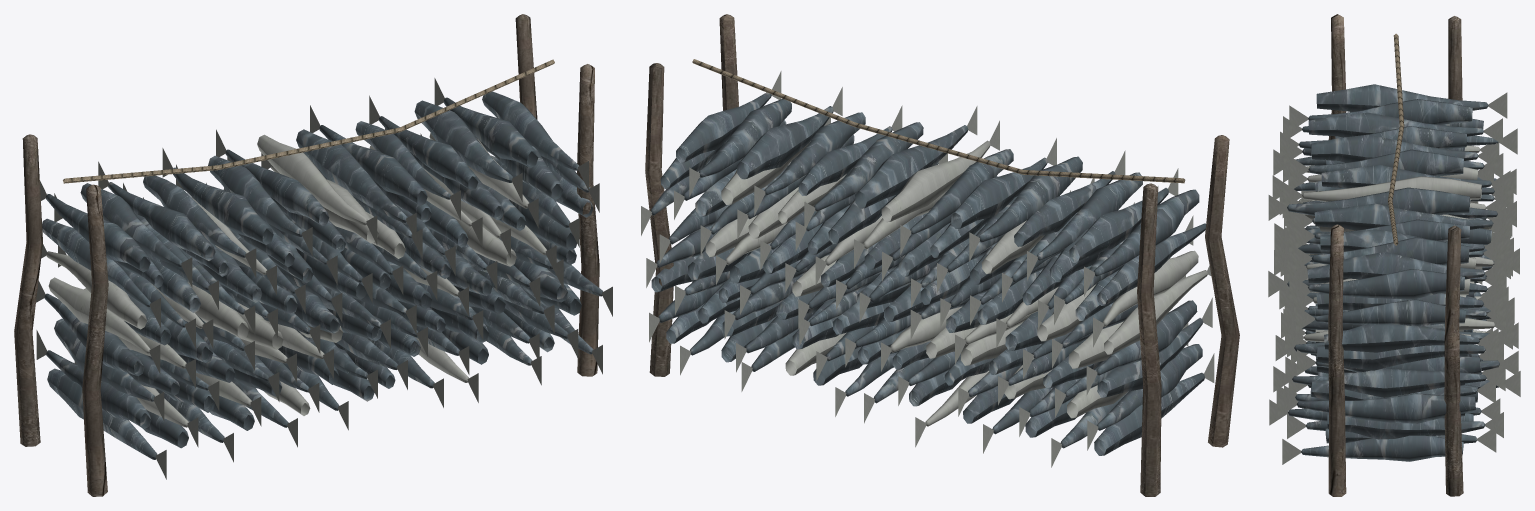
File: kf_fish_cord.glb
3 renders of one model, left to right at view 1: azimuth 30°, elevation 25°; view 2: azimuth 150°, elevation 25°; view 3: azimuth 270°, elevation 25°, orthographic. The views are drawn at different scales.
Visible parts, largest first — view 1: kf_fish_cord; view 2: kf_fish_cord; view 3: kf_fish_cord.
Boxes of the visible parts, left/top/right/bottom form: kf_fish_cord: left=14, top=14, right=612, bottom=496; kf_fish_cord: left=641, top=14, right=1239, bottom=496; kf_fish_cord: left=1268, top=14, right=1520, bottom=496.
Size of the model in its own units: 1.79 by 1.02 by 0.8593.
Materials: 1 (1 with a texture image).
